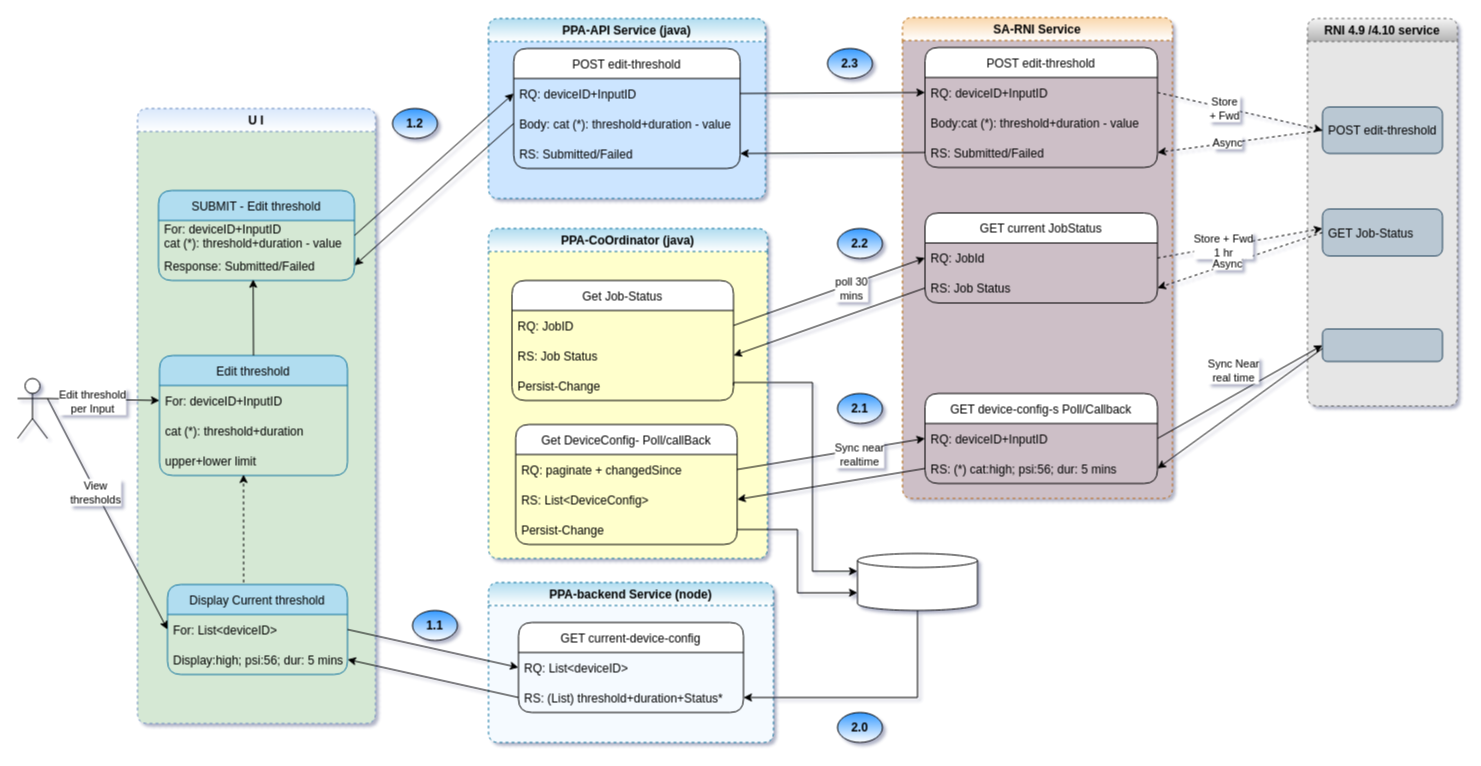
This 1481x766 diagram has some shape labels left out. The centre of each missing label's shape, as x and y in pixels:
"GET current-config" belongs at pixel 1382 345.
"PPA App DB" belongs at pixel 917 581.
"PPA User" belongs at pixel 32 408.
